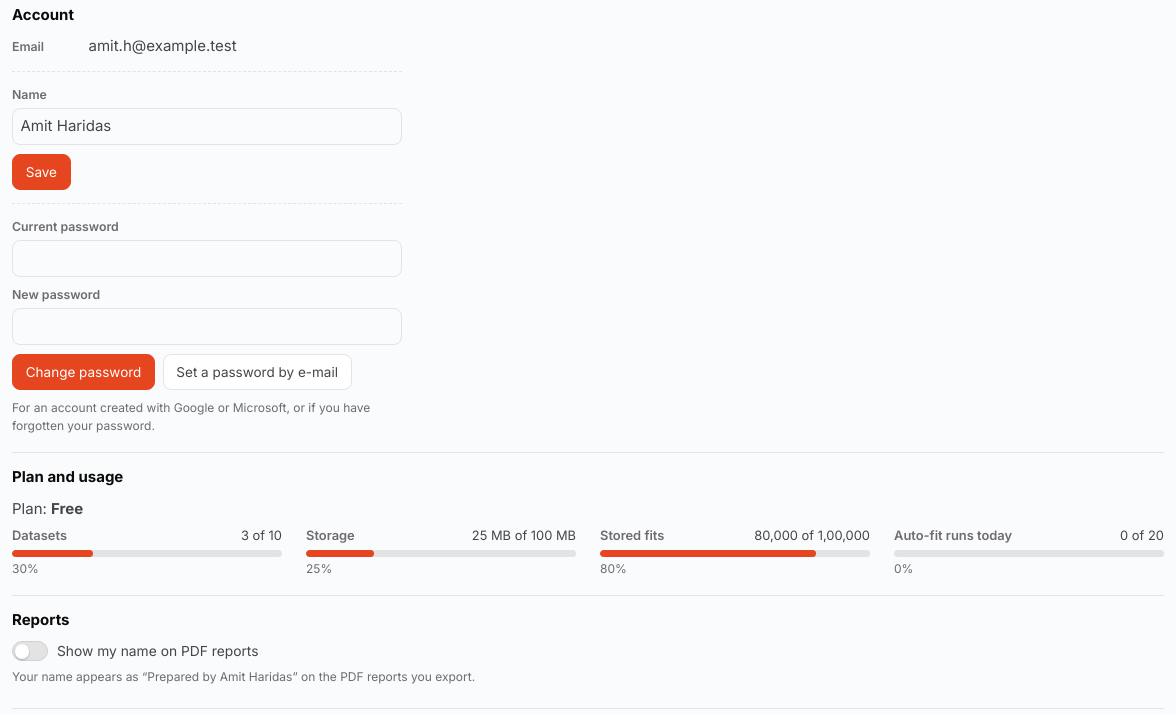
Test case: ProfilePage — Account › saves the name through PATCH /me and hands the returned profile to the session
Expected: the heading "Account" is shown, [12,5,74,24]
Replace the text in the field labelled "Name" with "Amit H" at (207, 126), box [12,108,402,145]
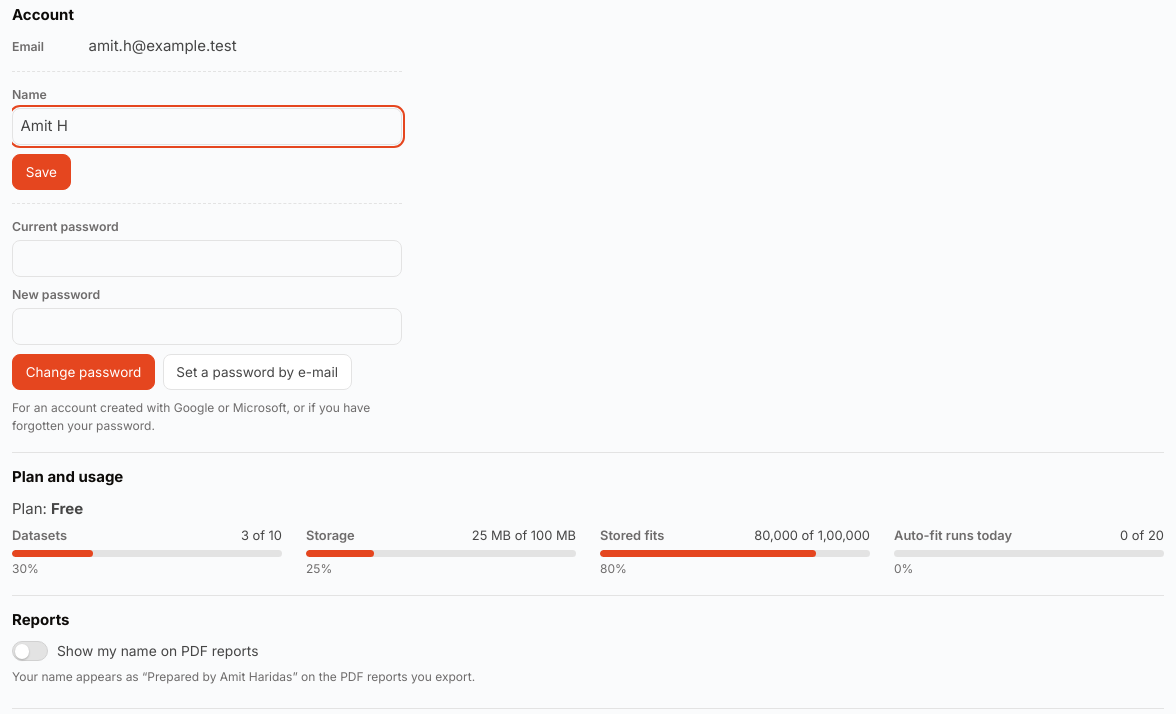
Click the button "Save" at (41, 172), box [12,154,71,190]
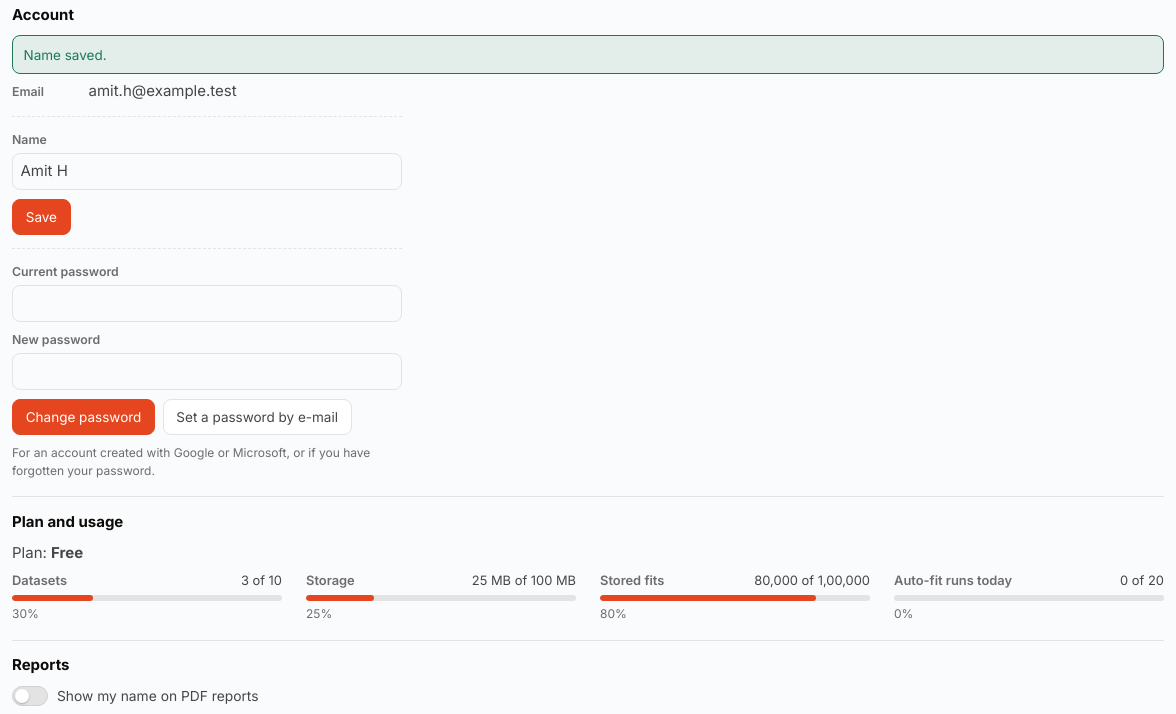
Expected: the message reads "Name saved.", [24,46,107,62]
